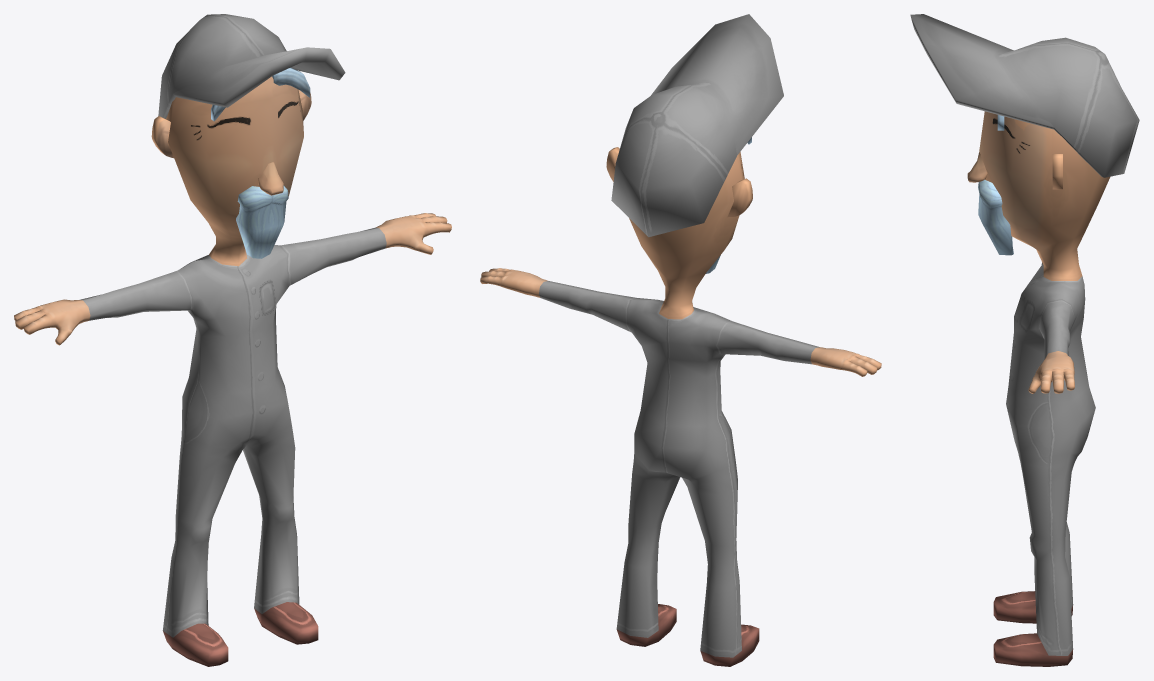
The model's file is janitor.glb.
3 renders of one model, left to right at view 1: azimuth 30°, elevation 25°; view 2: azimuth 150°, elevation 25°; view 3: azimuth 270°, elevation 25°, orthographic. The views are drawn at different scales.
Parts seen in each view (by area): view 1: node_id43; view 2: node_id43; view 3: node_id43.
Part boxes in pixels (x1,y1,x2,y2): node_id43: (14, 14, 451, 666); node_id43: (480, 14, 881, 666); node_id43: (910, 14, 1139, 666).
Bounding box in the file's own units: 0.3594 × 0.5094 × 0.1702.
Materials: 1 (1 with a texture image).
